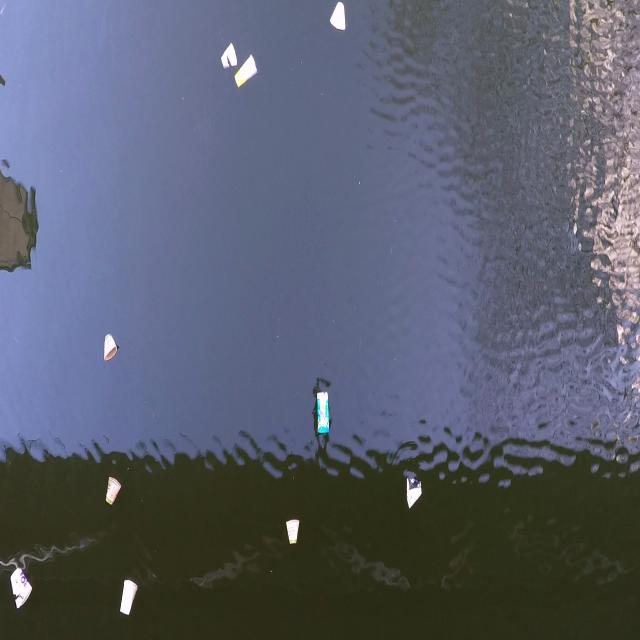Non plastique: (309, 382, 333, 442), (399, 470, 427, 519), (114, 577, 140, 622), (324, 0, 353, 40), (8, 567, 33, 611), (234, 52, 258, 93), (100, 473, 123, 515), (100, 324, 120, 370), (217, 40, 240, 75), (282, 513, 302, 550)
